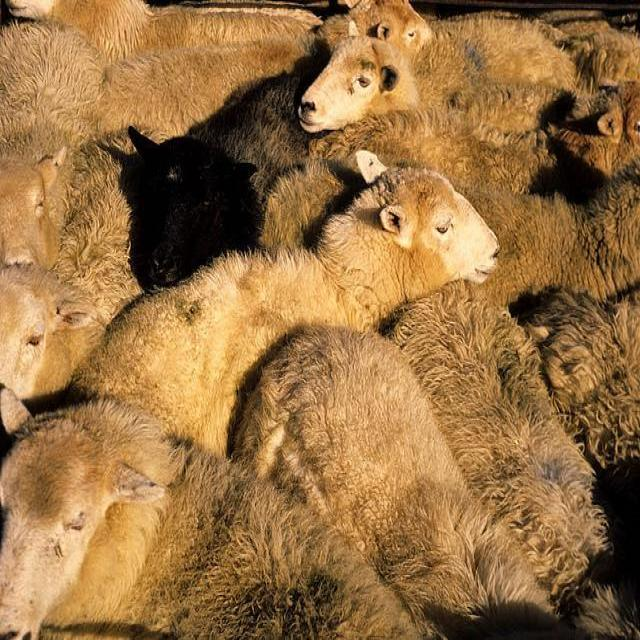Sheep: (0, 7, 639, 394), (71, 151, 502, 457), (1, 386, 448, 634), (230, 323, 564, 632), (380, 276, 639, 634), (255, 73, 639, 254), (130, 64, 335, 284), (0, 24, 333, 158), (298, 21, 600, 135), (455, 171, 638, 318), (523, 288, 639, 472), (2, 2, 323, 56), (2, 147, 67, 270), (315, 1, 441, 56)
